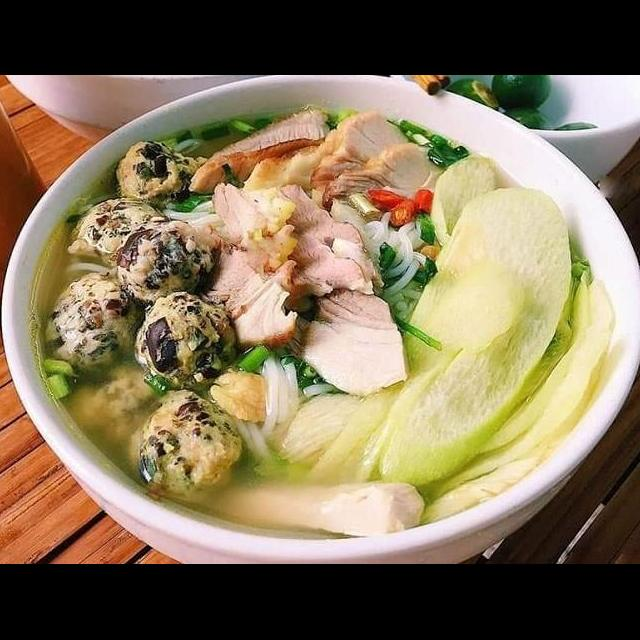bun: (227, 352, 341, 470), (352, 210, 436, 296)
bun moc: (11, 102, 640, 564)
thit heo: (258, 180, 412, 400), (238, 104, 452, 214), (194, 178, 304, 352)
vien moc: (115, 386, 252, 508), (128, 288, 245, 392), (45, 268, 138, 387), (110, 218, 222, 296), (110, 134, 217, 204), (66, 192, 176, 260)
